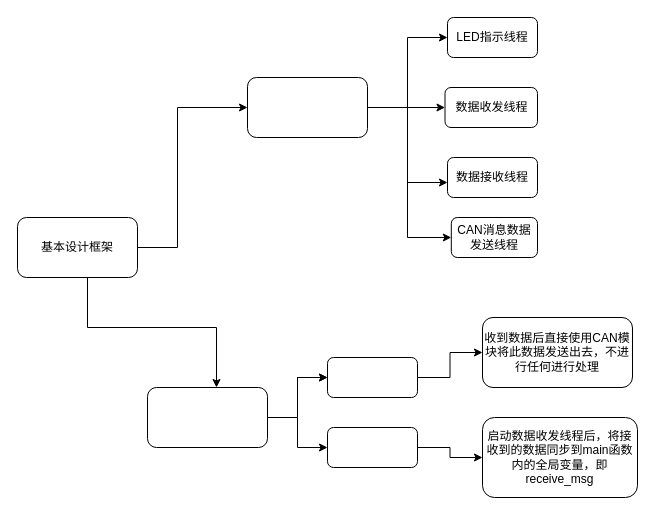
The diagram is 655 pixels wide and 515 high, and some of its shapes have lost their labels. The shapes that lost their labels are listed below. From the top down, each one's centre as x and y in pixels, then its label:
the point at 307,107: 多线程启动
the point at 372,377: 同步收发
the point at 207,417: 两种数据收发流程
the point at 372,447: 异步收发
